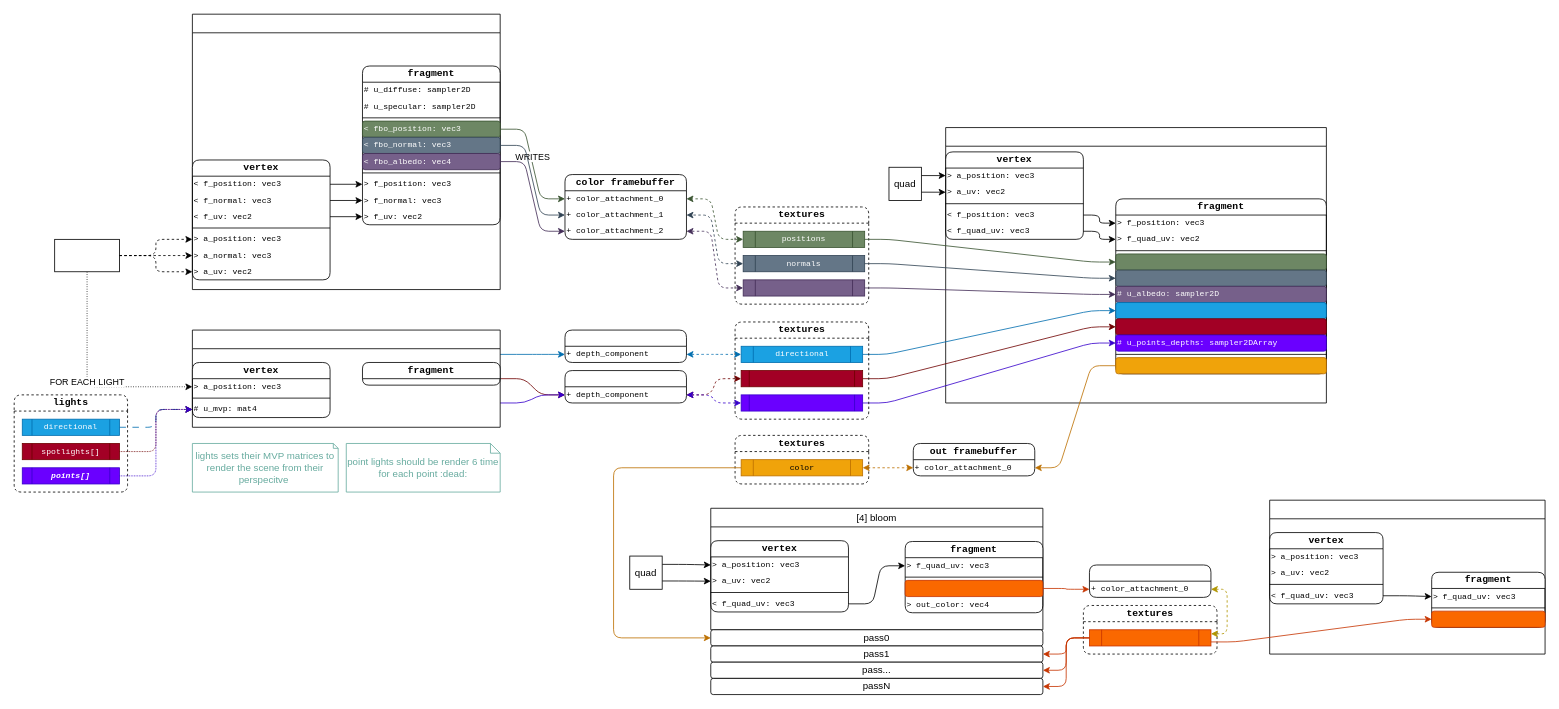
Image size: 1559x709. Some labels were removed from this diagram. Here are the shapes that lost their labels. From the top down, the box of each, then its label:
(192, 13, 500, 290): [1] geometry pipeline
(54, 239, 119, 272): scene
(945, 127, 1326, 403): [3] shading pipeline
(1115, 253, 1326, 270): # u_position: sampler2D
(742, 279, 865, 296): albedo
(1115, 269, 1326, 286): # u_normals: sampler2D
(1115, 302, 1326, 319): # u_directional_shadow_map: sampler2D
(1115, 318, 1326, 335): # u_spotlight_shadow_map: sampler2DArray
(564, 329, 686, 362): dir framebuffer
(1115, 357, 1326, 374): < out_color: vec4
(192, 329, 500, 427): [2] depth pipeline
(564, 370, 686, 403): framebuffer
(740, 370, 863, 387): spotlight_depths[]
(740, 394, 863, 411): points_depths[]
(904, 580, 1043, 597): # u_bloom: sampler2D
(1089, 564, 1211, 597): bloom framebuffer
(1269, 499, 1545, 654): [5] blit screen
(1089, 629, 1211, 646): bloom
(1431, 610, 1545, 627): # u_screen: sampler2D
